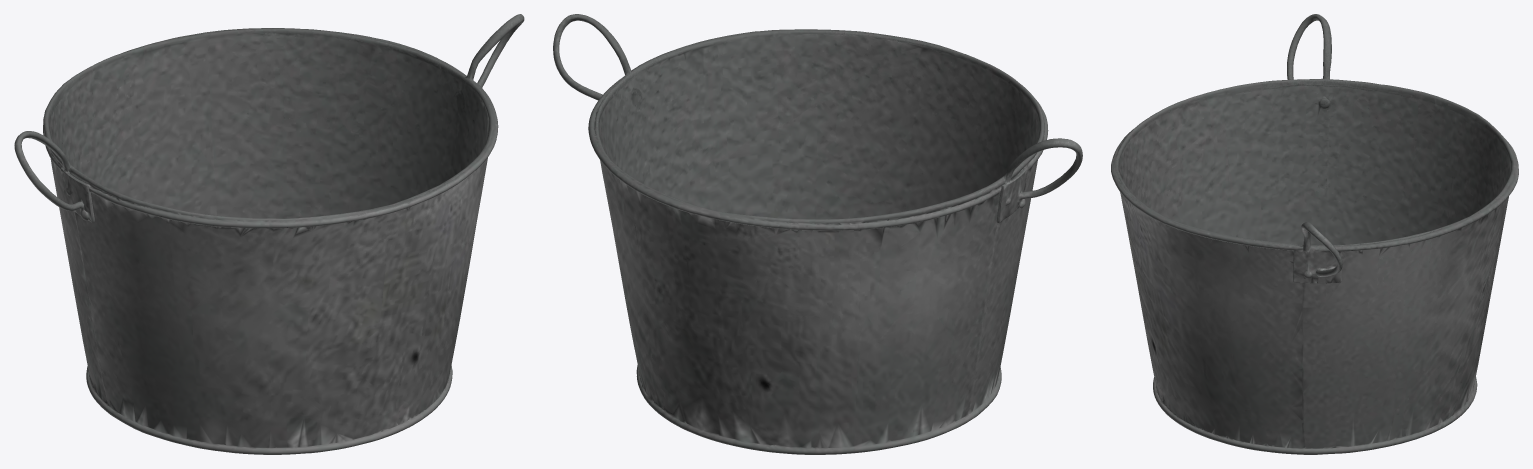
Rendered from bucket.glb.
The picture shows the model from 3 angles, left to right: view 1: azimuth 30°, elevation 25°; view 2: azimuth 150°, elevation 25°; view 3: azimuth 270°, elevation 25°; orthographic projection. The views are drawn at different scales.
Bounding box in the file's own units: 1.9 × 1.08 × 1.48.
1 material, 1 textured.
